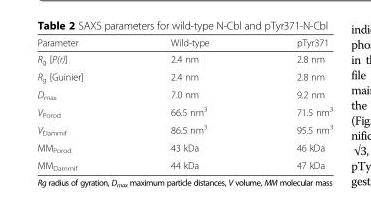table: (36, 36, 332, 171)
table column: (126, 36, 252, 171), (36, 36, 126, 171), (252, 36, 332, 171)
table column header: (36, 36, 332, 50)
table row: (36, 50, 332, 68), (36, 102, 332, 120), (36, 120, 332, 138), (36, 138, 332, 156), (36, 68, 332, 85), (36, 85, 332, 102), (36, 156, 332, 171), (36, 36, 332, 50)
